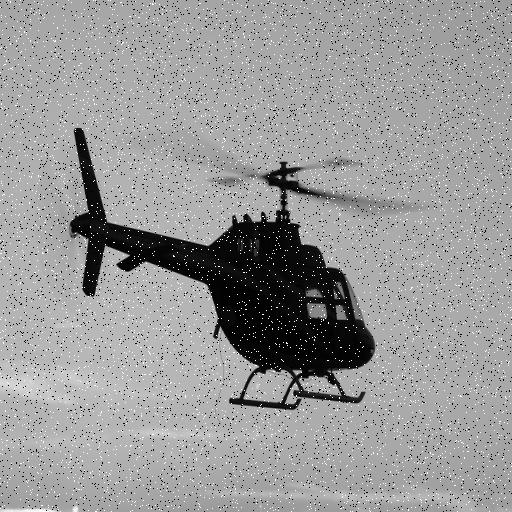helicopter: (42, 125, 430, 407)
